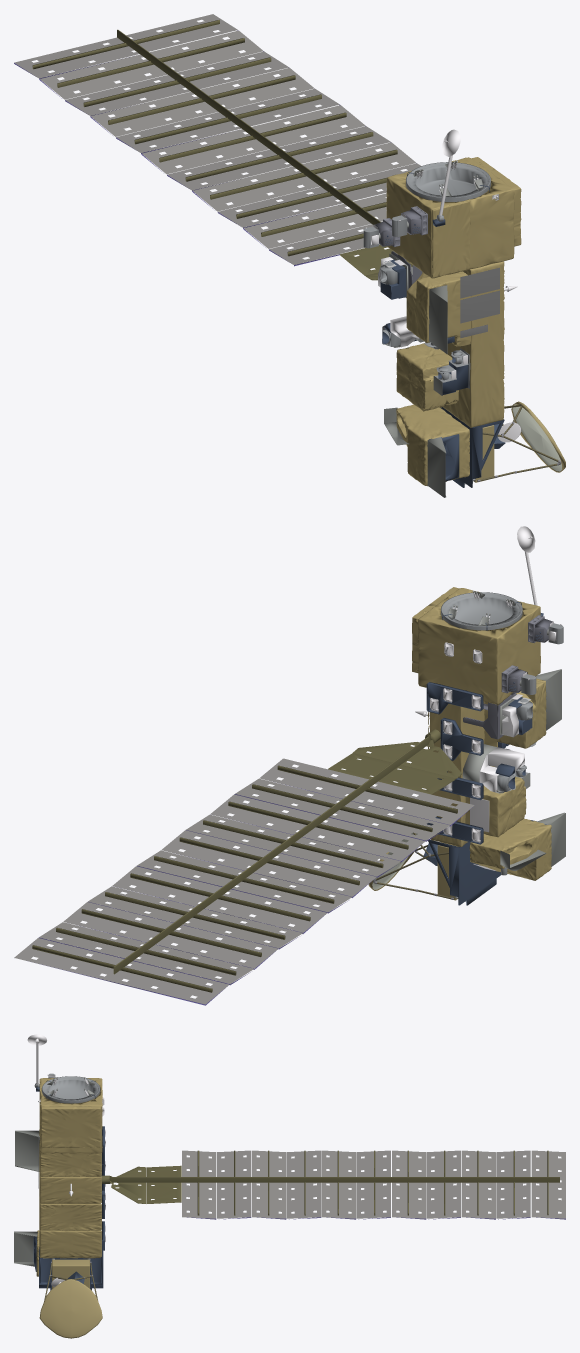
Rendered from aqua.glb.
The picture shows the model from 3 angles, top to bottom: view 1: azimuth 30°, elevation 25°; view 2: azimuth 150°, elevation 25°; view 3: azimuth 270°, elevation 25°; orthographic projection. The views are drawn at different scales.
Visible parts, largest first — view 1: Aqua_Reduced_v0014 [Aqua_Layered_02 [(unnamed)]]; view 2: Aqua_Reduced_v0014 [Aqua_Layered_02 [(unnamed)]]; view 3: Aqua_Reduced_v0014 [Aqua_Layered_02 [(unnamed)]].
Boxes of the visible parts, left/top/right/bottom form: Aqua_Reduced_v0014 [Aqua_Layered_02 [(unnamed)]]: left=14, top=14, right=565, bottom=497; Aqua_Reduced_v0014 [Aqua_Layered_02 [(unnamed)]]: left=14, top=526, right=565, bottom=1005; Aqua_Reduced_v0014 [Aqua_Layered_02 [(unnamed)]]: left=14, top=1034, right=565, bottom=1338.
Size of the model in its own units: 124 by 230 by 434.
2 materials, 2 textured.
